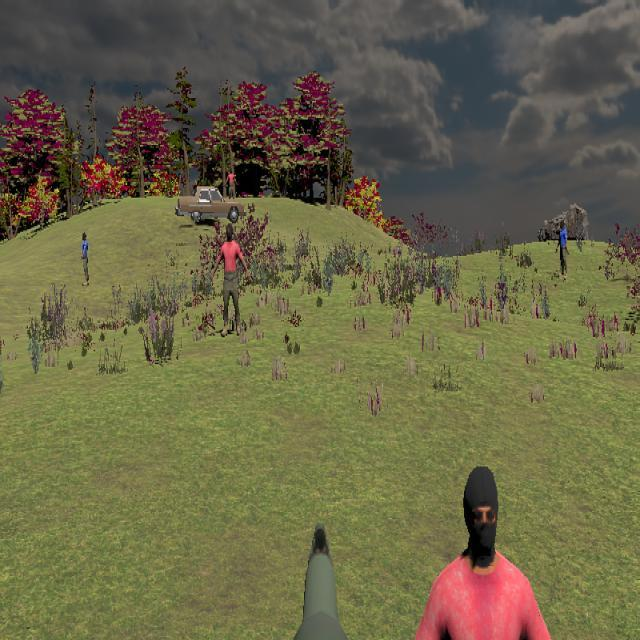Human: (385, 464, 592, 640), (213, 225, 248, 336), (557, 220, 569, 280), (81, 231, 89, 287)
car: (176, 186, 243, 224)
